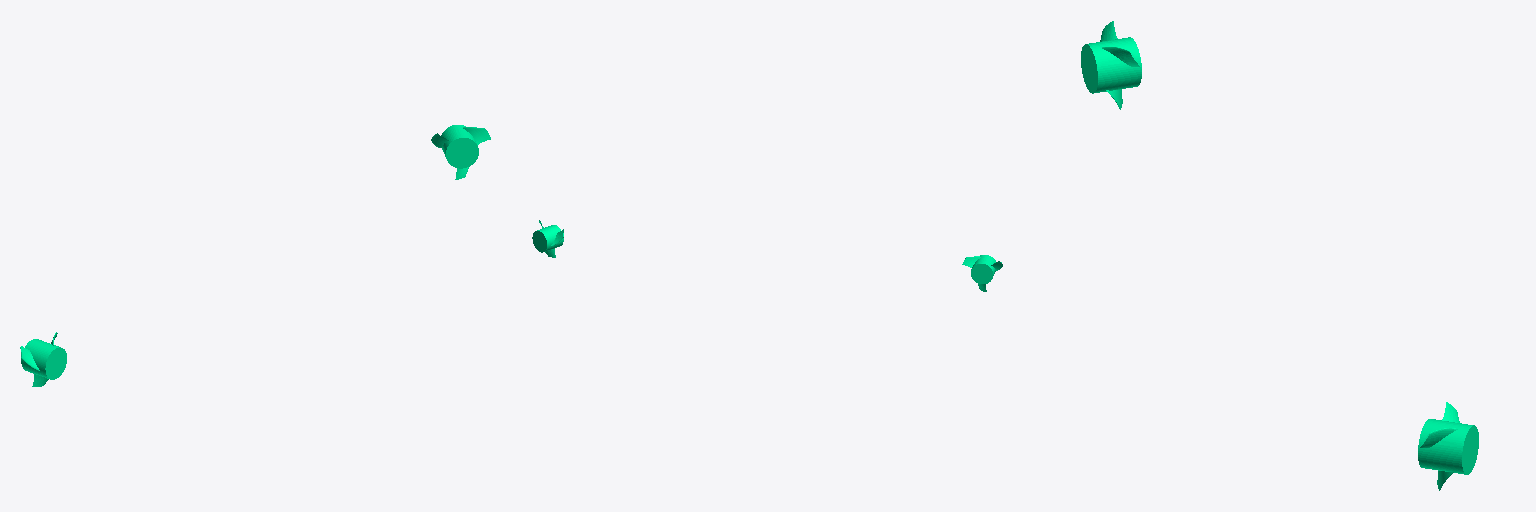
URDF robot description (puffin_auv):
<?xml version="1.0"?>
<robot name="puffin_auv">

  <!-- baselink -->
  <link name="base_link">
    <visual>
      <!--No real reference point decided. Centroid of cylindrical housing for now.-->
      <origin xyz="0 0 0" rpy="0 0 0"/>
      <geometry>
        <mesh filename="mesh/puffin_hull.dae" scale="1 1 1" />
      </geometry>
    </visual>
  </link>

  <!-- sensor links -->
  <link name="gps_link"/>

  <!-- hydrostatic links-->
  <link name="buoyancy_center_link"/>
  <link name="gravity_center_link"/>

  <!-- thruster links-->
  <link name="thruster_port">
    <visual>
      <origin xyz="0.0 0 0" rpy="0 0 0" />
      <geometry>
        <mesh filename="mesh/puffin_propeller_port.dae" scale="1 1 1"/>
      </geometry>
    </visual>
  </link>

  <link name="thruster_stbd">
    <visual>
      <origin xyz="0.0 0 0" rpy="0 0 0" />
      <geometry>
        <mesh filename="mesh/puffin_propeller_stb.dae" scale="1 1 1"/>
      </geometry>
    </visual>
  </link>

  <!-- thruster joints -->
  <joint name="thruster_port_joint" type="continuous">
    <origin xyz="-0.305076 0.042368 0.03" rpy="0 0 -1.39626" />
    <axis xyz="1 0 0"/>
    <parent link="base_link"/>
    <child link="thruster_port"/>
  </joint>

  <joint name="thruster_stbd_joint" type="continuous">
    <origin xyz="-0.305076 -0.042368 0.03" rpy="0 0 1.39626" />
    <axis xyz="1 0 0"/>
    <parent link="base_link"/>
    <child link="thruster_stbd"/>
  </joint>

  <!-- GNSS joint -->
  <joint name="gps_joint" type="fixed">
    <origin xyz="0.0 0.0 0.0" rpy="0 0 0" />
    <parent link="base_link"/>
    <child link="gps_link"/>
  </joint>

  <!-- Hydrostatic joints -->
  <joint name="gravity_center_joint" type="fixed">
    <origin xyz="-0.0685 0.0 0.168" rpy="0 0 0" />
    <parent link="base_link"/>
    <child link="gravity_center_link"/>
  </joint>

  <joint name="buoyancy_center_joint" type="fixed">
    <origin xyz="-0.0511 0 -0.09" rpy="0 0 0" />
    <parent link="base_link"/>
    <child link="buoyancy_center_link"/>
  </joint>


</robot>

--- Render facts (derived) ---
Views: 3 orthographic renders of the robot side by side, from view 1: azimuth 30°, elevation 25°; view 2: azimuth 150°, elevation 25°; view 3: azimuth 270°, elevation 25°.
Model puffin_auv with 6 links and 5 joints (2 continuous, 3 fixed), rooted at base_link, posed all joints at 0.
Visible links, largest first — view 1: thruster_stbd, thruster_port; view 2: thruster_port, thruster_stbd; view 3: thruster_port, thruster_stbd.
Boxes of the visible links, left/top/right/bottom form: thruster_stbd: left=431, top=125, right=490, bottom=179; thruster_port: left=20, top=332, right=66, bottom=386; thruster_port: left=962, top=255, right=1002, bottom=291; thruster_stbd: left=532, top=220, right=563, bottom=257; thruster_port: left=1081, top=21, right=1141, bottom=109; thruster_stbd: left=1418, top=402, right=1478, bottom=490.
Bounding box of the posed robot: 0.6299 × 0.255 × 0.0506 m (x, y, z).
2 mesh visuals loaded from 3 distinct referenced files (2 Collada DAE); not drawn: 1 (reference not matched to a file when rendering).
